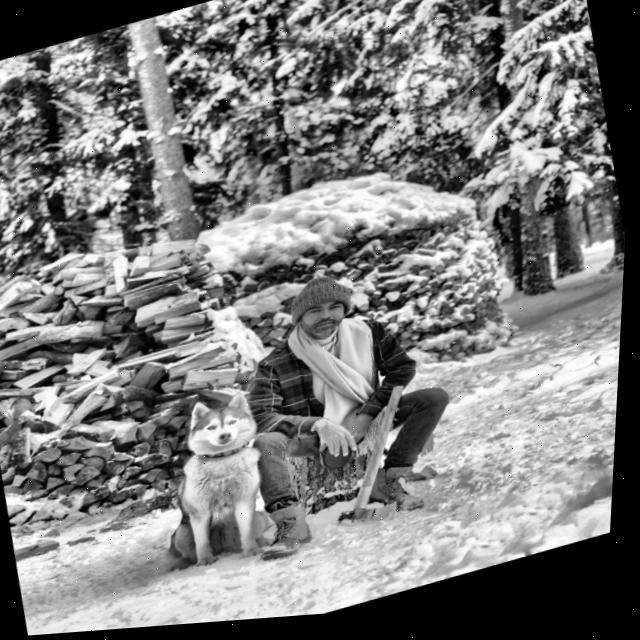kapak: (299, 370, 442, 551)
